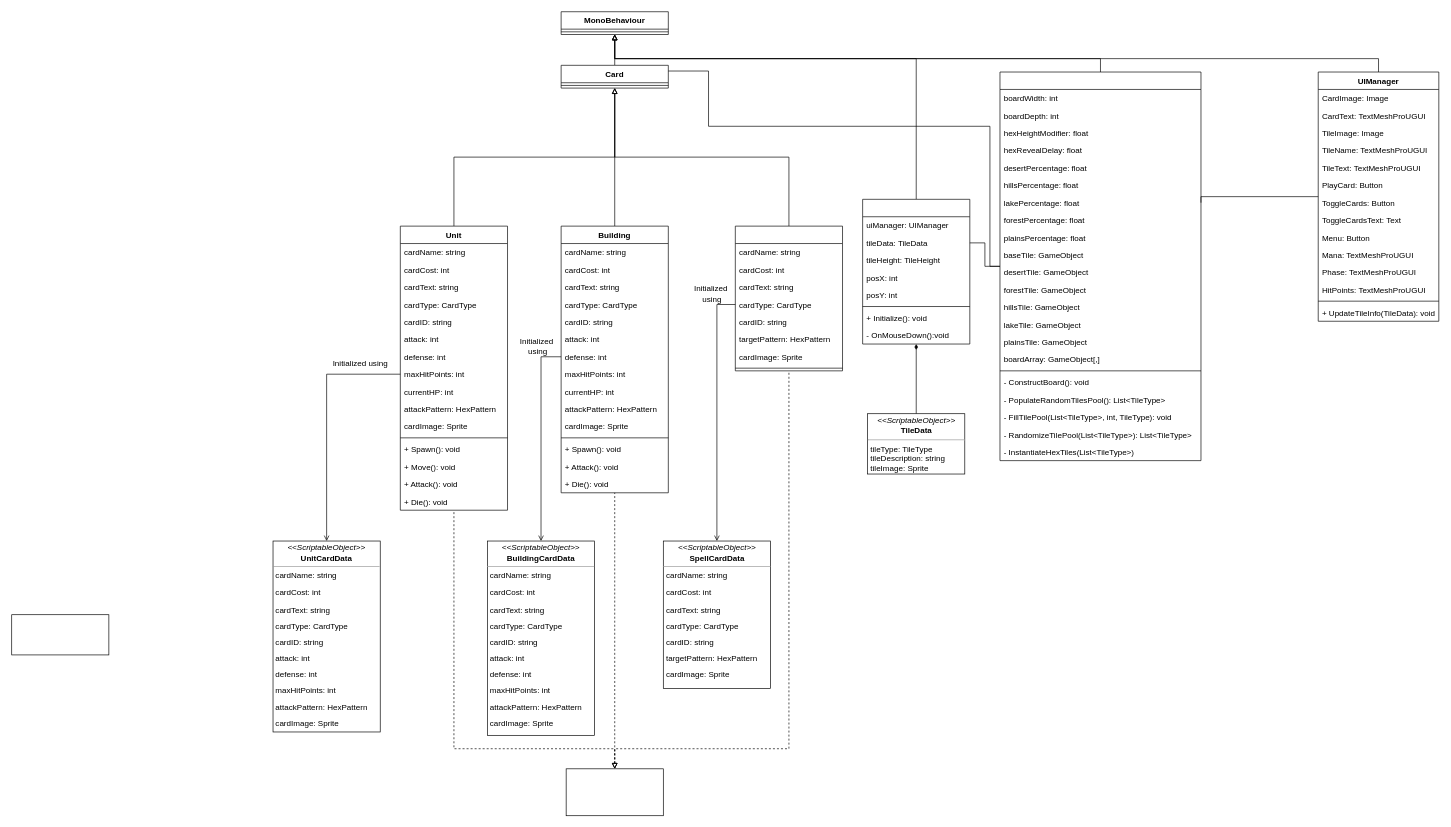
The diagram is 1451 pixels wide and 827 high, and some of its shapes have lost their labels. The box of each missing label's shape, as (x1, y1, x2, y2) in pixels:
<<Interface>> EffectCard + ExecuteEffect(): void: (565, 768, 663, 816)
<<ScriptableObject>> HexPattern patternImage: Sprite: (11, 614, 109, 655)
BoardManager: (999, 71, 1201, 461)
HexTile: (862, 199, 970, 344)
Spell: (735, 225, 843, 371)
